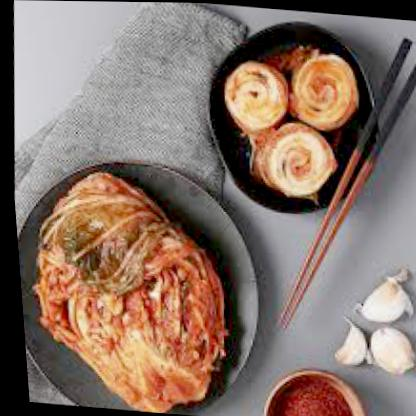Kimchi stew: (20, 165, 222, 413), (220, 43, 359, 200)
